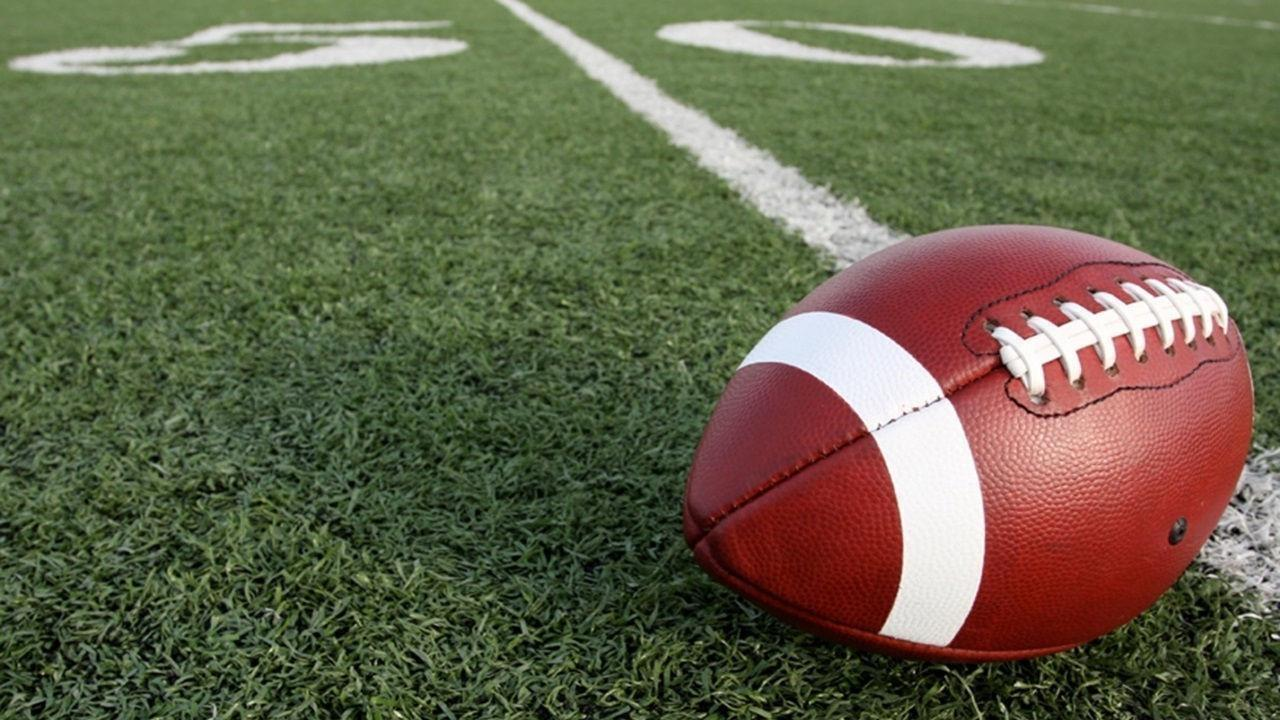Sports-Ball: (685, 225, 1250, 663)
